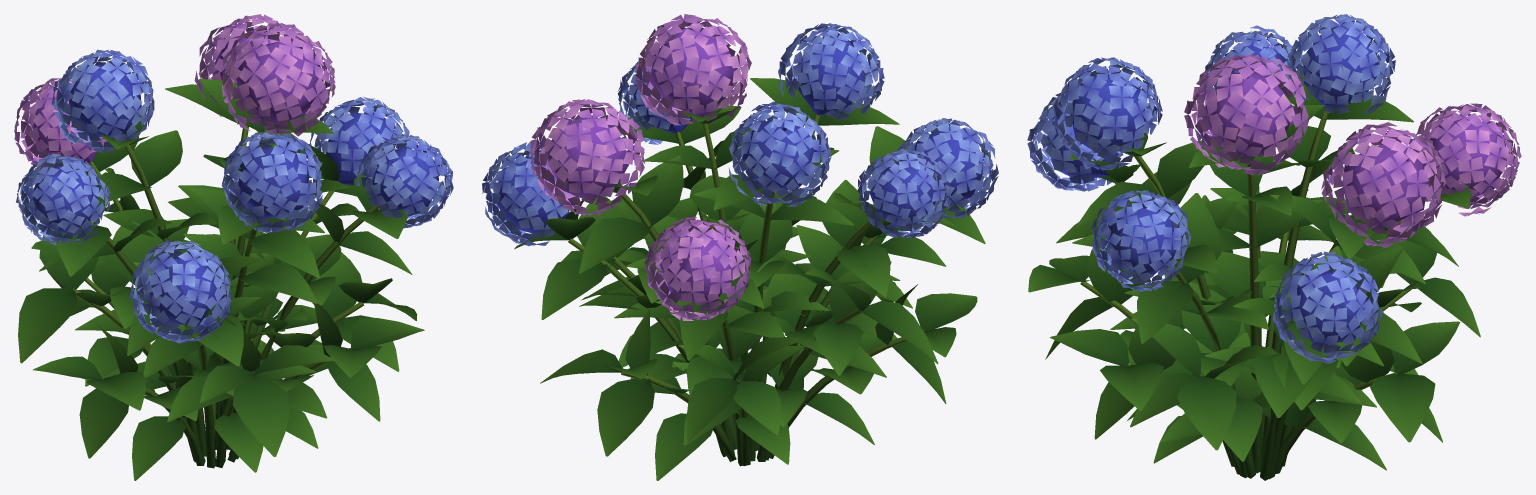
The model's file is treeKitsuneHydrangea.fbx.
The picture shows the model from 3 angles, left to right: view 1: azimuth 30°, elevation 25°; view 2: azimuth 150°, elevation 25°; view 3: azimuth 270°, elevation 25°; orthographic projection. The views are drawn at different scales.
Visible parts, largest first — view 1: treeKitsuneHydrangea; view 2: treeKitsuneHydrangea; view 3: treeKitsuneHydrangea.
Boxes of the visible parts, x1=… form: treeKitsuneHydrangea: x1=14, y1=14, x2=453, y2=480; treeKitsuneHydrangea: x1=482, y1=14, x2=998, y2=480; treeKitsuneHydrangea: x1=1027, y1=14, x2=1521, y2=480.
Bounding box in the file's own units: 0.8417 × 0.8058 × 0.8169.
1 material, 1 textured.
